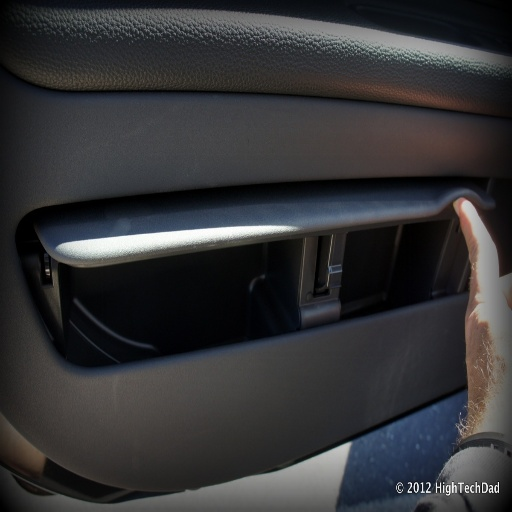hand: (449, 182, 509, 440)
